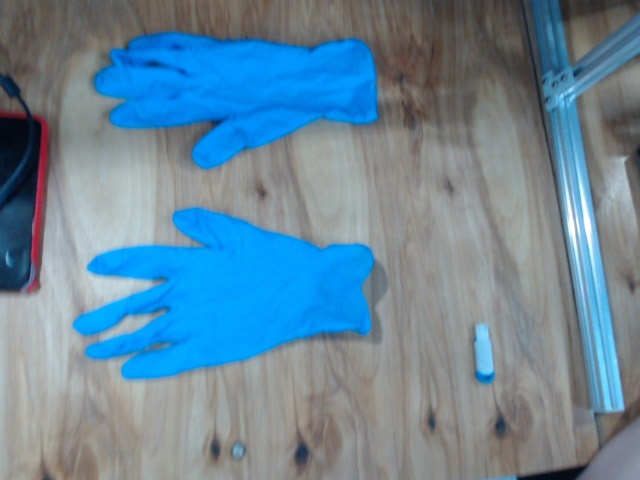medical_glove: (70, 208, 374, 377), (94, 31, 378, 167)
